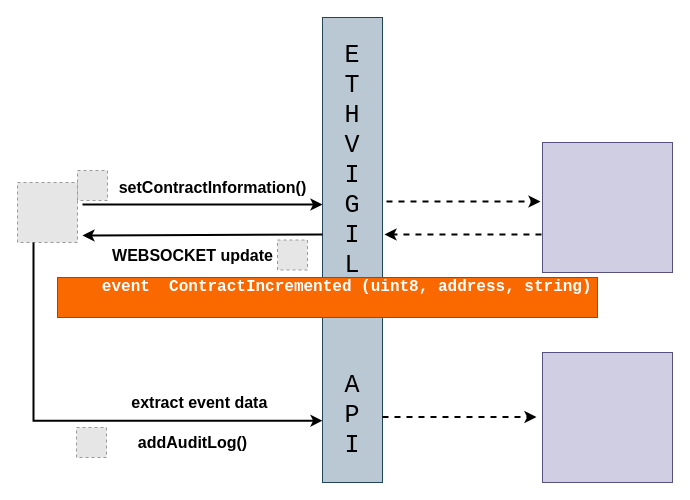
Some shapes in this 690 by 500 pixel diagram are drawn without their labels. Grey dashed boxes stand in for pictures. Each missing label, with the centre of its shape:
"myAuditLog" goes at point 607,417.
"myDemoContract" goes at point 607,207.
